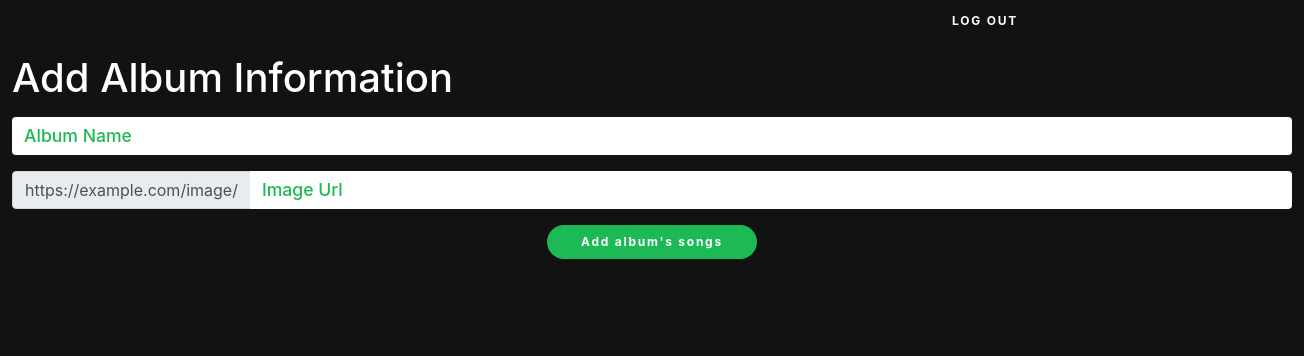
Test case: AddAlbum ValidateAlbumName function test › Album Name input Empty check
This screenshot has width=1304, height=356.
Click the button with id "submit" at coordinates (652, 242), box x1=547 y1=225 x2=757 y2=259
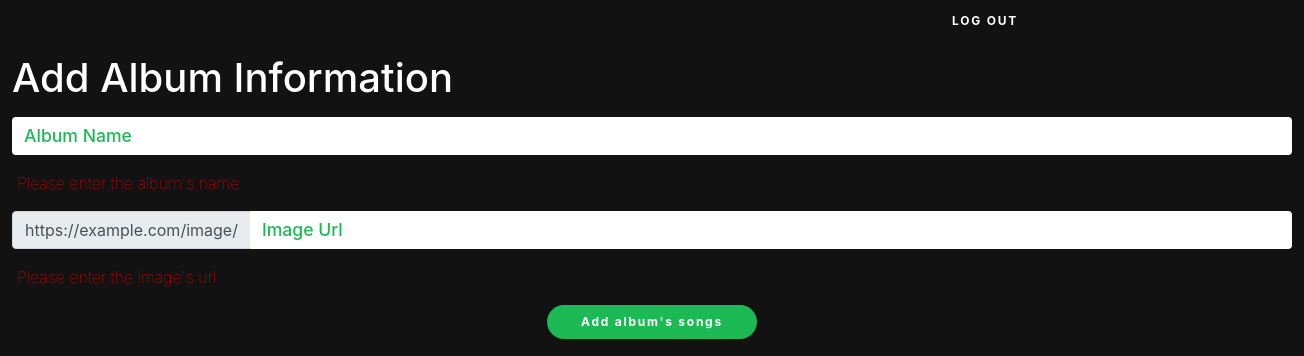
Expected: the text with id "error-message1" reads "Please enter the album's name", x1=17 y1=173 x2=239 y2=193
